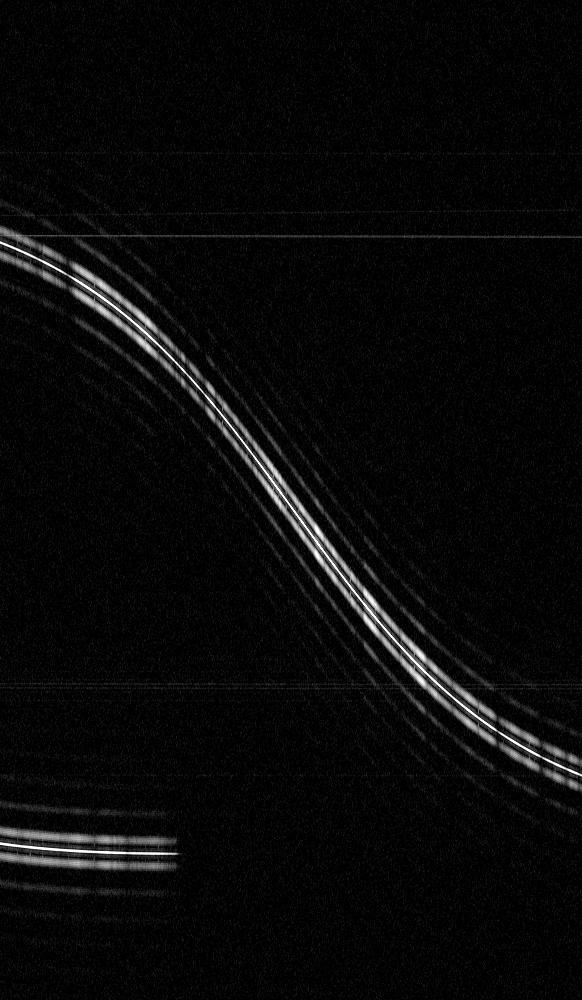signal: (0, 0, 581, 999)
